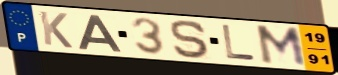3: (130, 16, 166, 57)
A: (77, 13, 124, 53)
K: (37, 10, 75, 50)
L: (220, 23, 257, 62)
M: (254, 24, 309, 69)
S: (168, 19, 213, 60)
